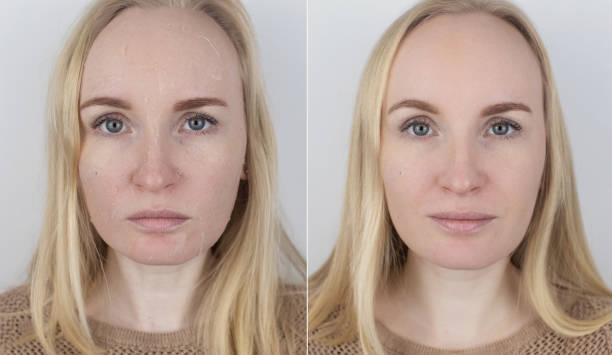Dry-Skin: (100, 22, 223, 96), (182, 144, 243, 249), (86, 144, 132, 227)
